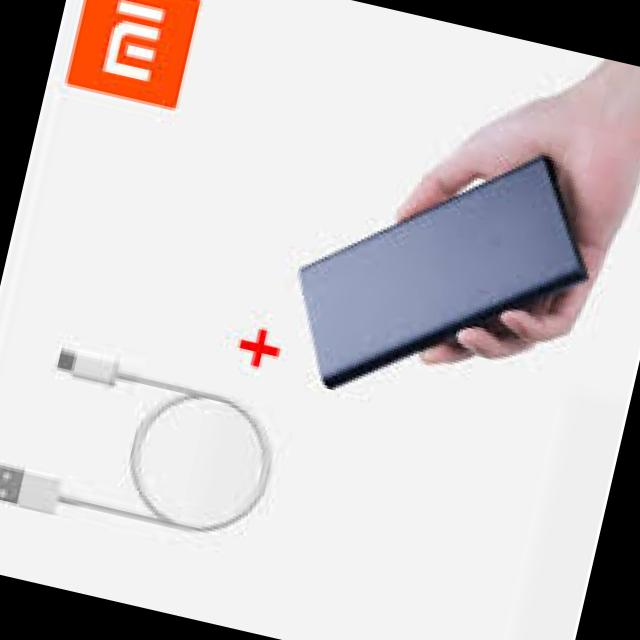portable-charger: (270, 104, 614, 438)
